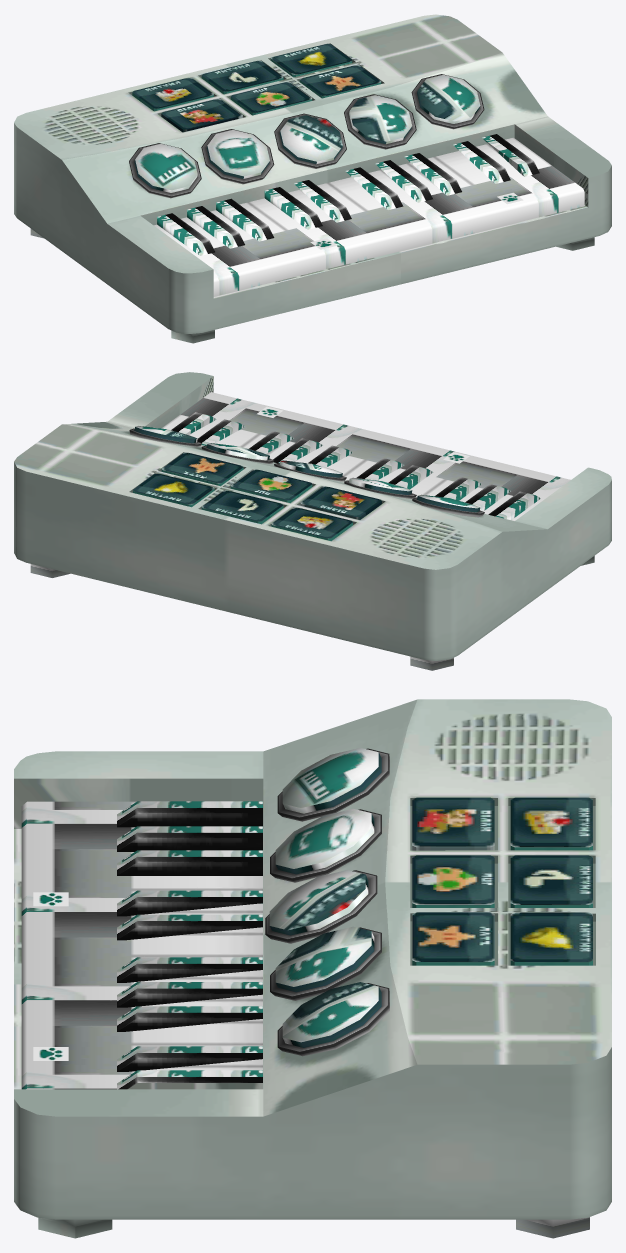
Rendered from Pianos.obj.
The picture shows the model from 3 angles, top to bottom: view 1: azimuth 30°, elevation 25°; view 2: azimuth 150°, elevation 25°; view 3: azimuth 270°, elevation 25°; orthographic projection. The views are drawn at different scales.
Parts seen in each view (by area): view 1: _1_0_node, _2_0_node, _0_0_node; view 2: _1_0_node, _2_0_node, _0_0_node; view 3: _1_0_node, _2_0_node, _0_0_node.
Part boxes in pixels (box(x1,y1,x2,y2)): _1_0_node: box(14, 14, 611, 343); _2_0_node: box(154, 134, 584, 296); _0_0_node: box(30, 43, 484, 238); _1_0_node: box(14, 372, 611, 660); _2_0_node: box(161, 392, 570, 520); _0_0_node: box(30, 426, 484, 670); _1_0_node: box(14, 699, 611, 1238); _2_0_node: box(21, 801, 262, 1089); _0_0_node: box(265, 748, 592, 1238).
Bounding box in the file's own units: 2.3 × 0.548 × 1.59.
Materials: 3 (3 with a texture image).
